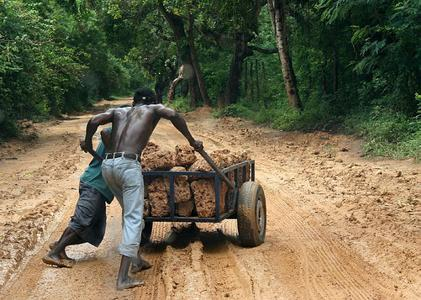person: (78, 85, 204, 293)
